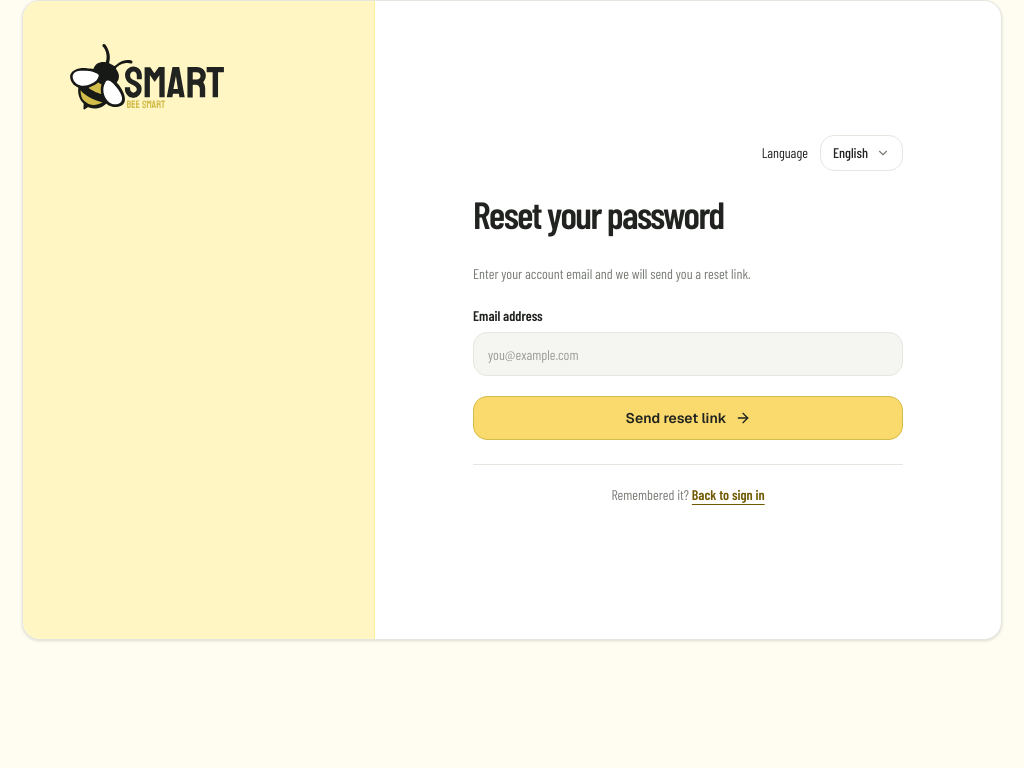
Test: authentication pages › requests a password reset without exposing account existence
This screenshot has width=1024, height=768.
Type " ADA@EXAMPLE.COM " into the field labelled "Email address" at coordinates (688, 354), box [473,332,903,376]
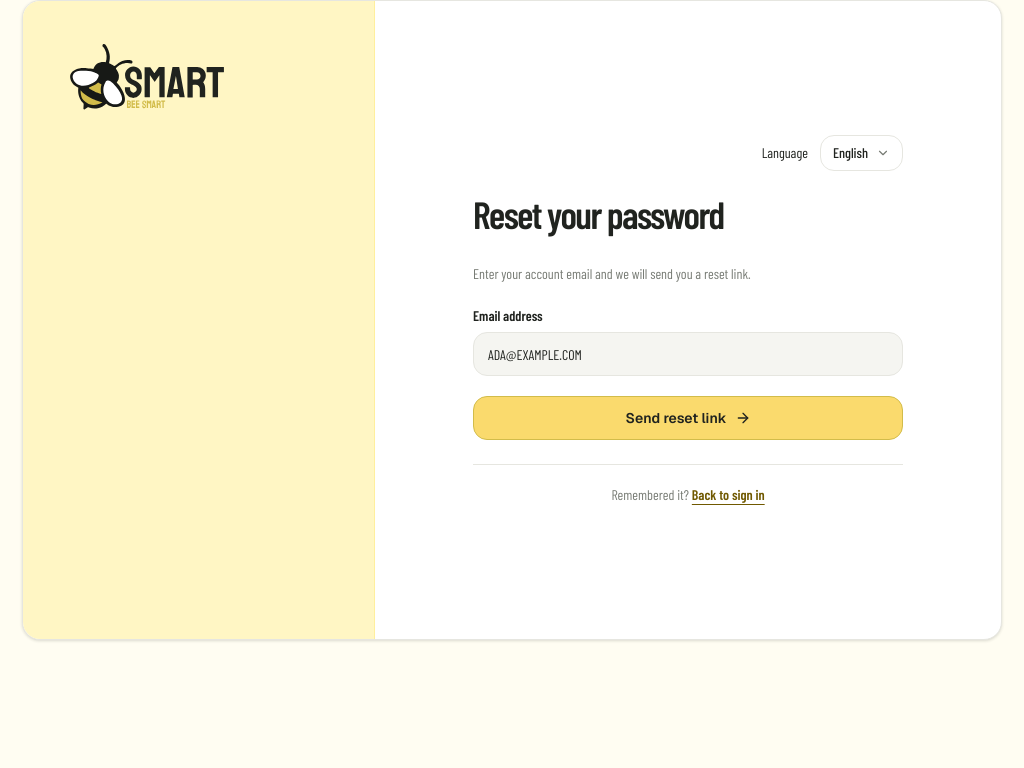
Click the button "Send reset link" at coordinates (688, 418), box [473,396,903,440]
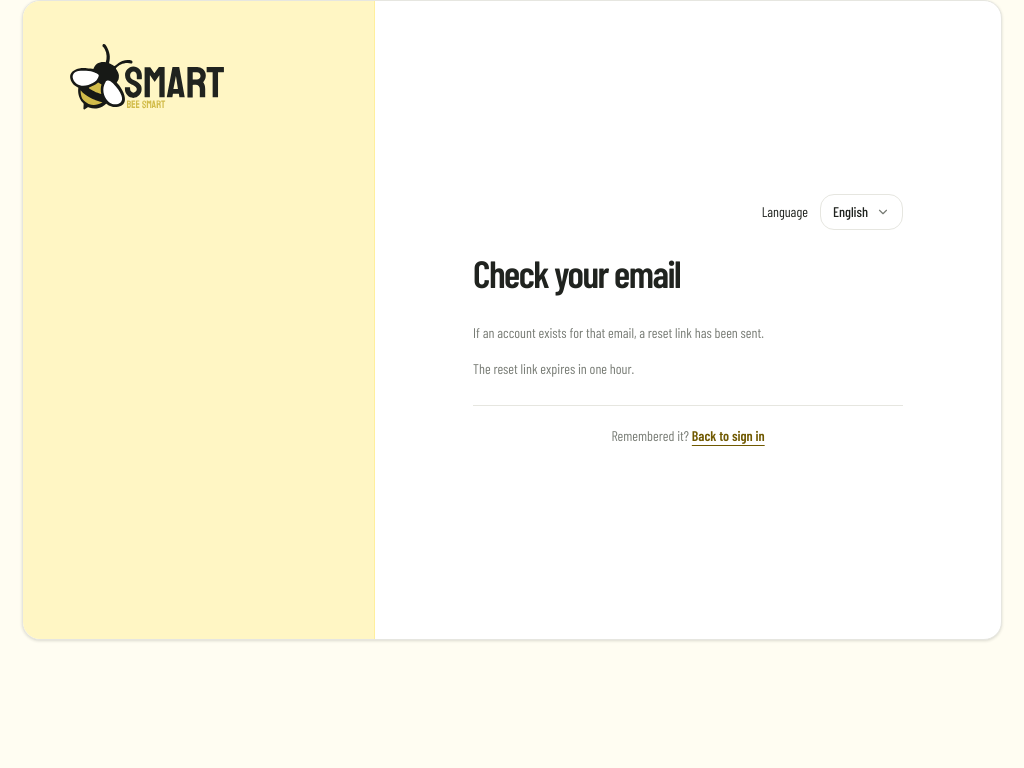
Now the message shows "If an account exists", box [473,324,764,341]
Now the heading "Check your email" is shown, box [473,250,680,296]
